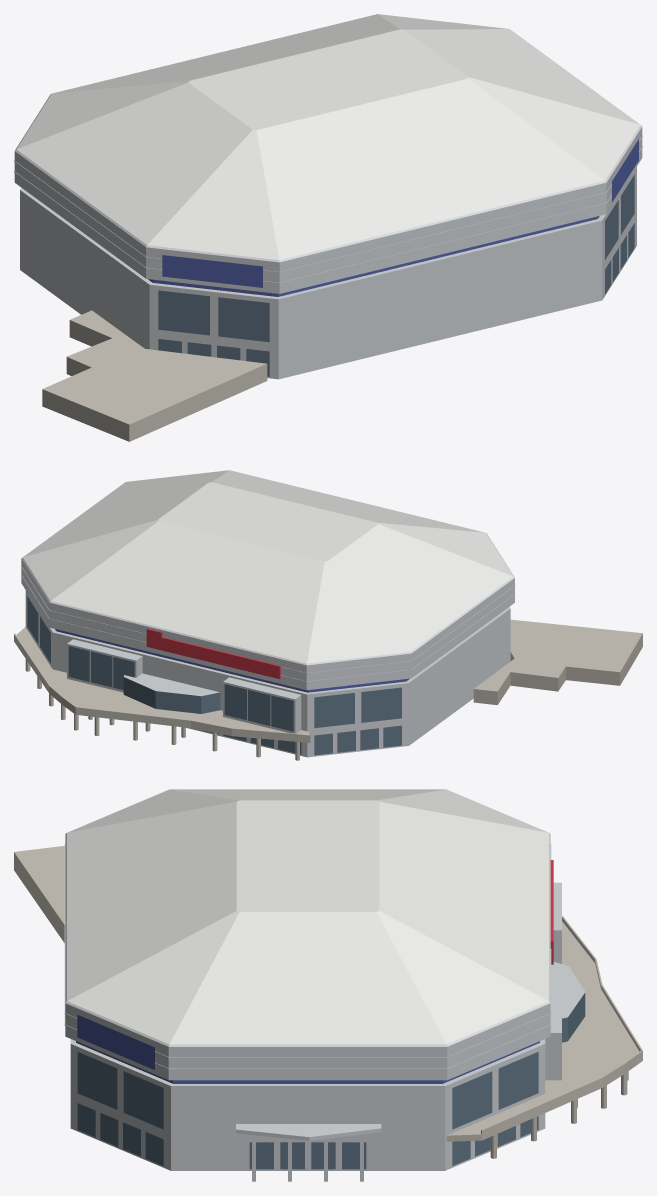
The model's file is nola-smoothie-king-center.glb.
3 views of the same model, one above another, from view 1: azimuth 30°, elevation 25°; view 2: azimuth 150°, elevation 25°; view 3: azimuth 270°, elevation 25° (orthographic). The views are drawn at different scales.
Parts seen in each view (by area): view 1: Smoothie King Center; view 2: Smoothie King Center; view 3: Smoothie King Center.
Part boxes in pixels (x1,y1,x2,y2): Smoothie King Center: [14, 14, 642, 441]; Smoothie King Center: [14, 470, 642, 760]; Smoothie King Center: [14, 789, 642, 1181].
Size of the model in its own units: 174 by 46.3 by 140.
